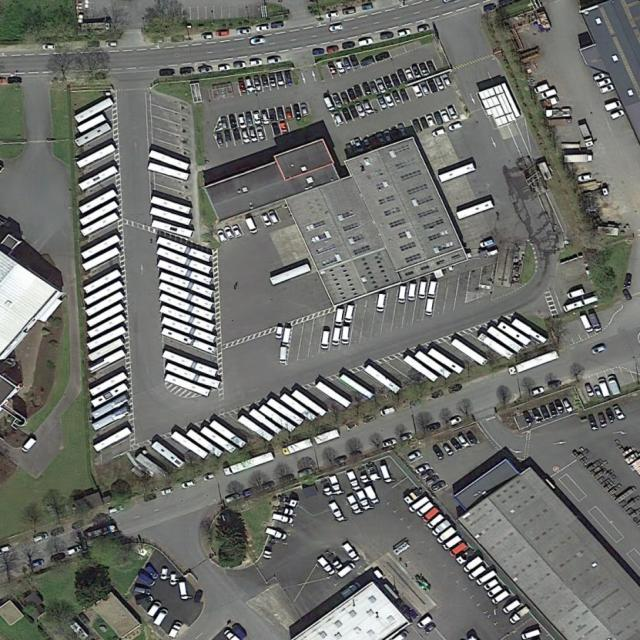large-vehicle: (159, 294, 215, 321), (159, 282, 214, 309), (165, 363, 219, 390), (157, 248, 213, 274), (163, 351, 218, 377), (161, 317, 216, 343), (160, 306, 216, 331), (158, 260, 213, 285), (157, 237, 212, 262), (159, 273, 215, 297), (223, 452, 276, 477), (161, 329, 216, 353), (508, 350, 560, 375), (364, 364, 402, 395), (280, 392, 318, 423), (414, 350, 453, 379), (165, 374, 212, 397), (74, 97, 115, 123), (451, 338, 489, 366), (186, 429, 224, 457), (259, 405, 297, 433), (79, 165, 119, 191), (427, 347, 464, 375), (171, 432, 209, 459), (84, 280, 123, 306), (487, 325, 523, 353), (85, 292, 125, 317), (477, 333, 514, 360), (267, 398, 304, 425), (91, 383, 129, 409), (91, 394, 129, 420), (94, 427, 132, 453), (200, 427, 238, 453), (86, 327, 127, 351), (79, 189, 118, 214), (80, 201, 119, 226), (83, 270, 122, 295), (512, 318, 548, 345), (238, 416, 275, 442), (81, 235, 121, 259), (92, 406, 130, 431), (292, 390, 327, 417), (89, 373, 128, 397), (86, 304, 125, 328), (77, 144, 116, 168), (404, 356, 440, 382), (316, 382, 352, 408), (86, 315, 126, 338), (81, 213, 119, 237), (270, 264, 311, 286), (152, 441, 185, 468), (89, 350, 126, 374), (75, 123, 112, 147), (498, 321, 532, 347), (340, 374, 375, 399), (82, 248, 120, 271), (149, 150, 189, 171), (89, 339, 125, 362), (136, 454, 169, 479), (149, 207, 192, 226), (250, 409, 282, 434), (456, 200, 495, 220), (151, 196, 191, 215), (439, 163, 477, 183), (147, 163, 189, 181), (151, 220, 193, 238), (84, 523, 119, 540), (282, 438, 313, 457), (78, 114, 106, 133), (578, 123, 595, 147), (315, 429, 340, 444), (565, 154, 593, 163)
small-vehicle: (508, 604, 532, 626), (314, 555, 336, 577), (340, 540, 361, 562), (408, 495, 431, 515), (474, 569, 498, 587), (327, 501, 347, 522), (339, 581, 361, 600), (345, 493, 364, 514), (436, 526, 457, 545), (431, 518, 452, 537), (363, 484, 381, 506), (463, 555, 483, 574), (152, 606, 170, 627), (355, 490, 373, 511), (442, 534, 463, 552), (403, 487, 424, 505), (345, 470, 362, 492), (263, 526, 287, 541), (421, 505, 440, 523), (337, 561, 357, 578), (501, 598, 521, 615), (491, 589, 511, 606), (136, 571, 157, 587), (378, 463, 394, 484), (578, 313, 594, 334), (607, 374, 622, 396), (416, 501, 435, 518), (243, 216, 260, 235), (467, 565, 487, 581), (588, 312, 603, 333), (146, 600, 163, 618), (167, 621, 184, 639), (20, 436, 38, 453), (426, 513, 444, 530), (232, 622, 249, 640), (448, 541, 467, 557), (415, 614, 434, 630), (271, 512, 294, 525), (142, 564, 160, 580), (486, 583, 504, 599), (564, 299, 584, 313), (343, 303, 356, 324), (611, 405, 628, 421), (322, 95, 337, 113), (598, 378, 611, 398), (281, 326, 293, 347), (320, 329, 332, 350), (375, 293, 387, 314), (447, 382, 466, 395), (132, 585, 154, 596), (134, 594, 154, 606), (521, 628, 541, 640), (330, 327, 342, 347), (449, 437, 464, 453), (483, 578, 500, 592), (328, 474, 342, 491), (396, 123, 410, 140), (605, 407, 618, 425), (424, 421, 442, 434), (604, 99, 622, 112), (333, 308, 345, 327), (427, 280, 439, 299), (456, 434, 471, 449), (464, 431, 479, 446), (423, 621, 439, 635), (431, 444, 445, 460), (67, 544, 84, 557), (414, 462, 431, 475), (539, 404, 552, 421), (587, 414, 600, 431), (424, 475, 441, 488), (354, 101, 367, 118), (224, 493, 242, 505), (380, 437, 398, 449), (278, 347, 290, 365), (243, 486, 261, 498), (481, 2, 499, 14), (583, 382, 597, 397), (78, 612, 92, 627), (441, 443, 456, 457), (375, 94, 389, 109), (179, 581, 190, 600), (107, 505, 126, 516), (417, 280, 428, 299), (441, 72, 454, 88), (548, 403, 561, 419), (531, 408, 544, 424), (260, 479, 276, 492), (32, 532, 49, 544), (380, 405, 397, 417), (412, 117, 424, 134), (591, 344, 608, 356), (340, 325, 350, 345), (428, 390, 446, 401), (69, 520, 87, 531), (280, 472, 298, 483), (418, 62, 431, 77), (411, 83, 424, 98), (420, 468, 435, 481), (334, 60, 347, 75), (434, 76, 446, 92), (49, 525, 65, 537), (534, 82, 550, 94), (431, 480, 447, 492), (447, 415, 463, 427), (407, 283, 417, 302), (425, 297, 435, 316), (361, 414, 378, 425), (49, 552, 66, 563), (297, 468, 314, 479), (541, 88, 558, 99), (609, 109, 626, 120), (598, 83, 615, 94), (223, 226, 236, 240), (267, 210, 280, 224), (384, 94, 397, 108), (398, 284, 407, 304), (354, 138, 366, 153), (411, 64, 423, 79), (447, 105, 459, 120), (567, 289, 585, 299), (596, 412, 608, 427), (523, 411, 535, 426), (360, 56, 375, 68), (333, 110, 345, 125), (348, 104, 360, 119), (331, 94, 343, 109), (591, 71, 607, 82), (548, 379, 564, 390), (578, 173, 594, 184), (143, 492, 159, 503), (397, 68, 408, 84), (376, 78, 387, 94), (478, 239, 495, 249), (237, 77, 247, 94), (253, 75, 263, 92), (595, 78, 612, 88), (216, 229, 228, 243), (231, 224, 243, 238), (261, 213, 273, 227), (361, 137, 373, 151), (369, 135, 381, 149), (376, 132, 388, 146), (554, 399, 566, 413), (237, 115, 248, 130), (407, 450, 422, 461), (417, 23, 432, 34), (420, 81, 431, 96), (427, 78, 438, 93), (584, 295, 599, 306), (283, 71, 294, 86), (375, 51, 390, 62), (342, 107, 353, 122), (363, 99, 374, 114), (180, 480, 196, 490), (179, 66, 195, 76), (391, 126, 401, 142), (529, 387, 545, 397), (268, 72, 278, 88), (256, 126, 266, 142), (622, 289, 634, 302), (274, 325, 285, 339), (426, 114, 437, 128), (327, 62, 338, 76), (347, 88, 358, 102), (362, 82, 373, 96), (330, 23, 344, 34), (159, 68, 176, 77), (30, 559, 45, 569), (447, 122, 462, 132), (434, 111, 444, 126), (593, 384, 603, 399), (244, 77, 254, 92), (348, 450, 364, 459), (347, 420, 360, 431), (369, 81, 380, 94), (441, 110, 451, 124), (623, 273, 633, 287), (384, 76, 394, 90), (283, 106, 293, 120), (241, 129, 250, 144), (399, 433, 414, 442), (198, 66, 213, 75), (335, 455, 350, 464), (267, 56, 282, 65), (359, 38, 374, 47), (203, 472, 216, 482), (383, 131, 393, 144), (404, 68, 414, 81), (260, 75, 270, 88), (343, 57, 353, 70), (350, 54, 360, 67), (340, 92, 350, 105), (390, 74, 400, 87), (272, 123, 282, 136), (229, 113, 237, 129), (250, 37, 266, 45), (294, 105, 302, 121), (159, 567, 168, 581), (161, 487, 175, 496), (195, 589, 204, 603), (276, 72, 285, 86), (400, 89, 409, 103), (342, 41, 356, 50), (398, 29, 412, 38), (250, 129, 259, 143), (253, 111, 262, 125), (261, 111, 270, 125), (246, 111, 254, 126), (232, 62, 247, 70), (216, 29, 231, 37), (248, 59, 263, 67), (354, 85, 364, 97), (236, 28, 253, 35), (8, 77, 25, 84), (327, 45, 340, 54), (276, 108, 285, 121), (256, 25, 270, 33), (326, 12, 340, 20), (427, 61, 436, 73), (392, 91, 401, 103), (219, 64, 232, 72), (234, 129, 242, 142), (42, 43, 55, 51), (431, 129, 444, 137), (300, 103, 308, 116), (279, 122, 288, 133), (152, 37, 166, 44), (172, 35, 186, 42), (380, 33, 394, 40), (342, 8, 356, 15), (106, 41, 119, 48), (269, 109, 276, 122), (217, 132, 223, 146), (271, 22, 283, 29), (362, 3, 374, 10), (170, 573, 176, 586), (221, 118, 228, 129), (313, 48, 324, 55), (225, 131, 231, 143), (78, 13, 85, 23), (203, 34, 213, 40), (78, 2, 84, 12)
